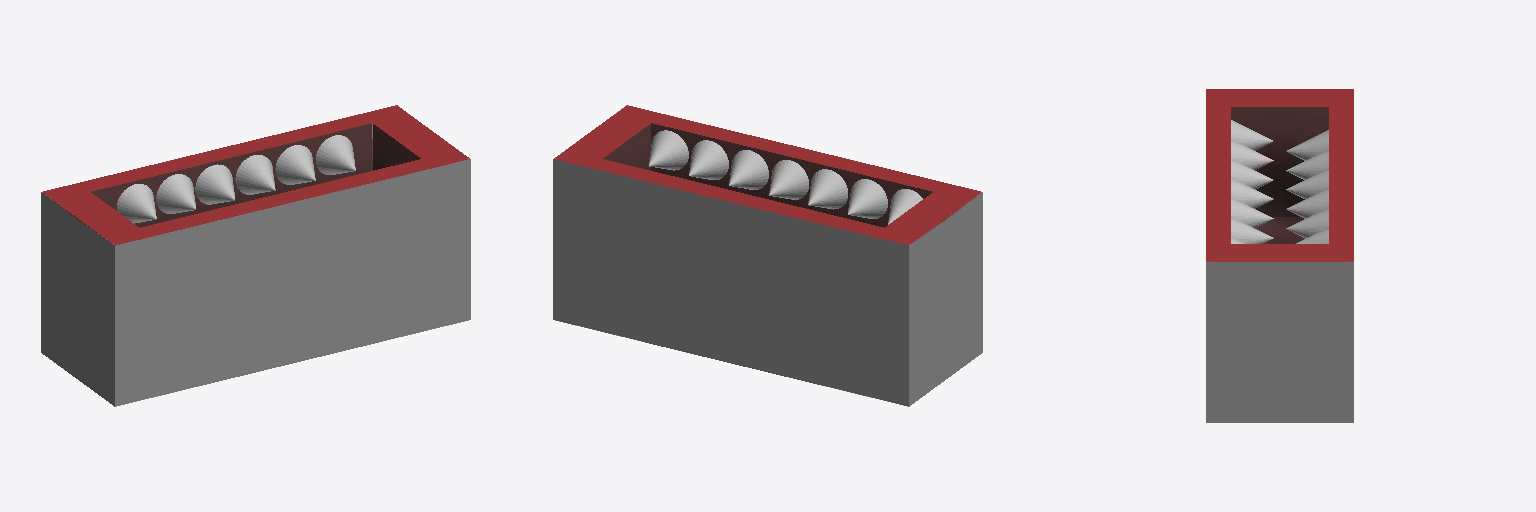
3 views of the same model, side by side, from view 1: azimuth 30°, elevation 25°; view 2: azimuth 150°, elevation 25°; view 3: azimuth 270°, elevation 25° (orthographic).
Parts seen in each view (by area): view 1: head.007; view 2: head.007; view 3: head.007.
Part boxes in pixels (left/top/right/bottom): head.007: left=41, top=105, right=470, bottom=406; head.007: left=553, top=105, right=982, bottom=406; head.007: left=1206, top=89, right=1353, bottom=422.
Size of the model in its own units: 1.65 by 0.7152 by 0.592.
1 materials, 1 textured.